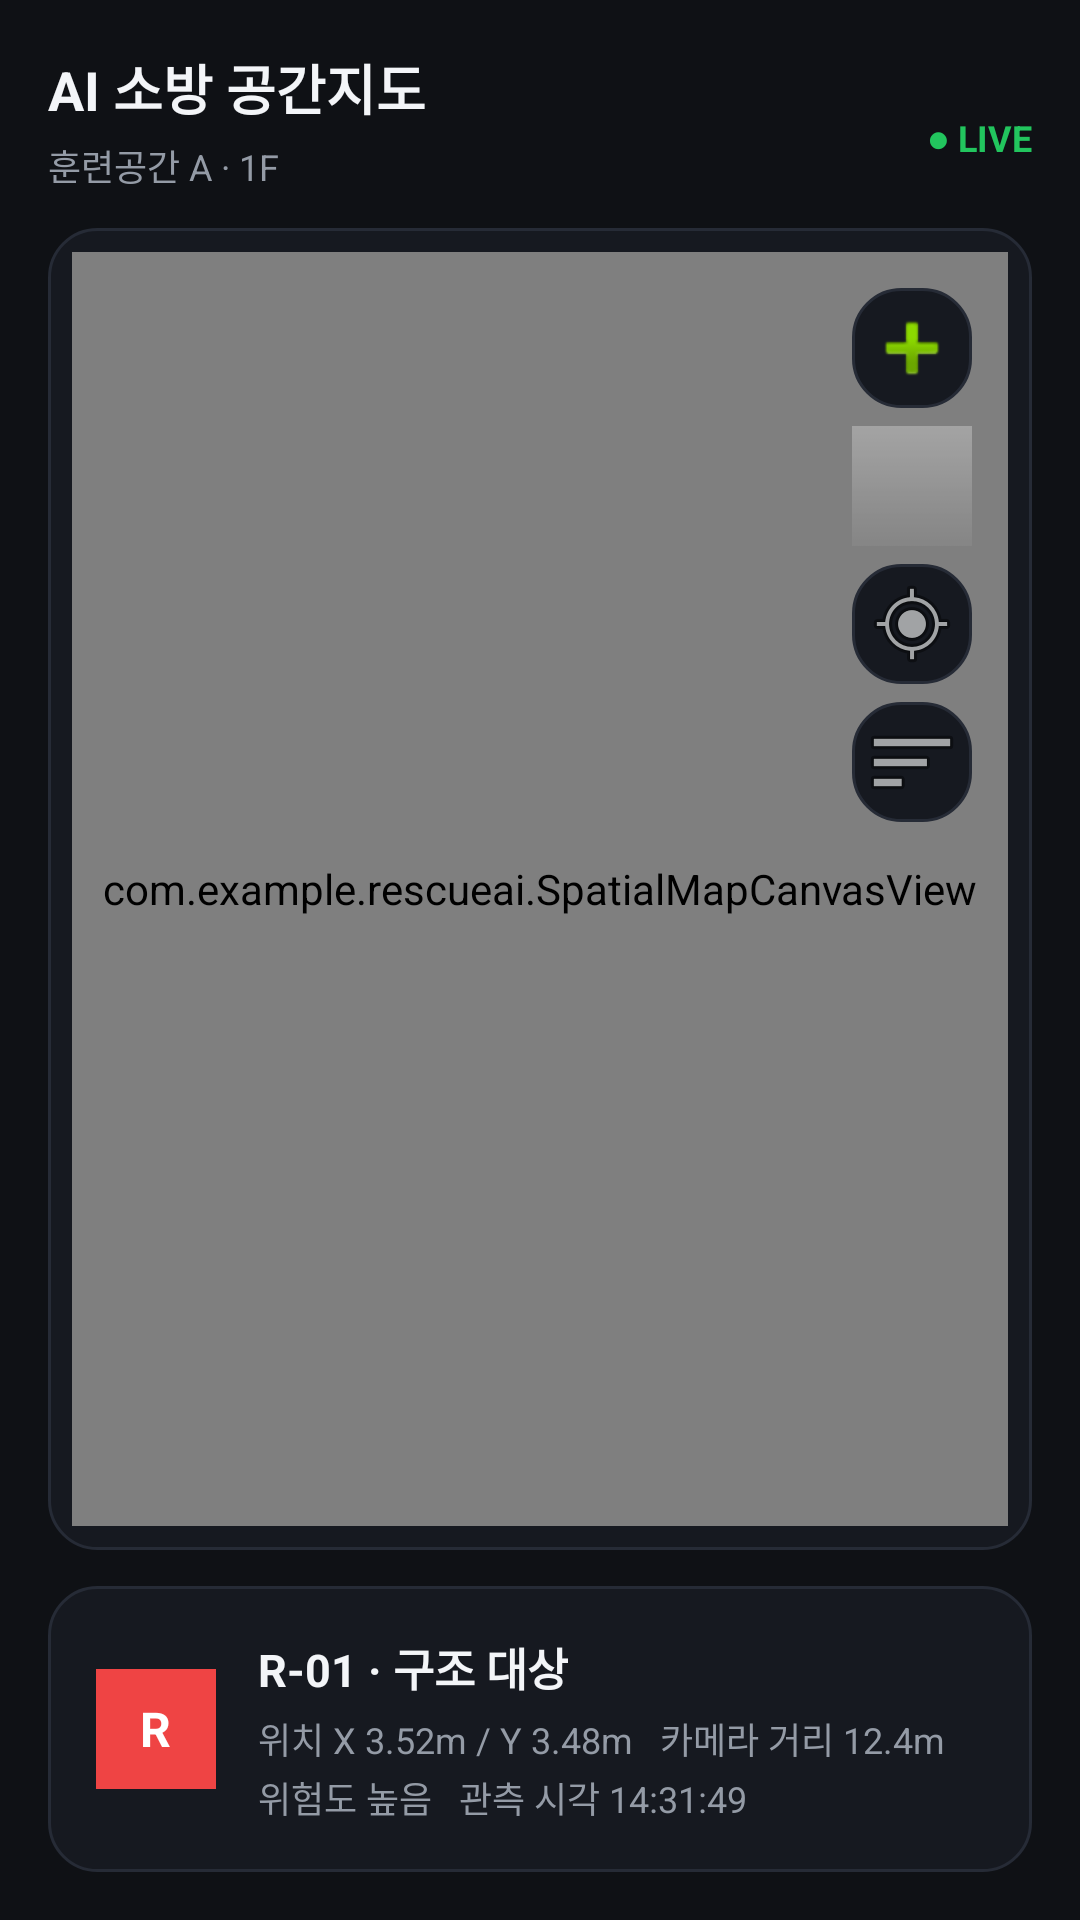

Icons on this 1080*1920 Android screen, each with the point to tap as (x,y):
현재 위치: (912,624)
확대: (912,348)
